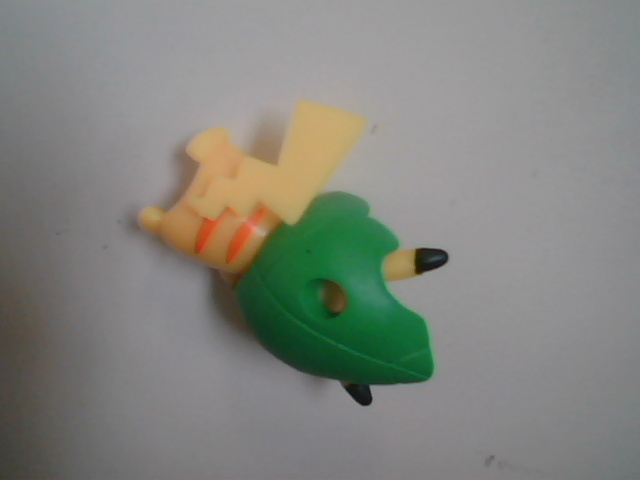pikachu: (118, 53, 491, 421)
